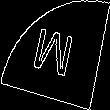M_S: (30, 25, 80, 85)
